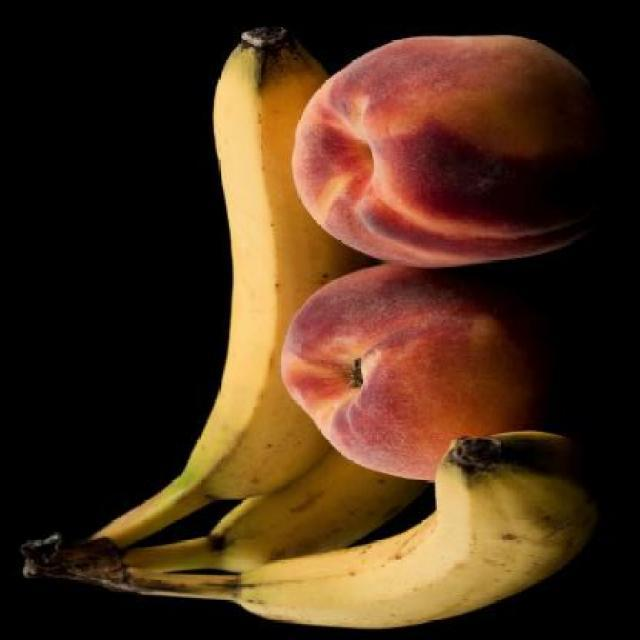Peach: (289, 36, 622, 270), (280, 264, 543, 482)
